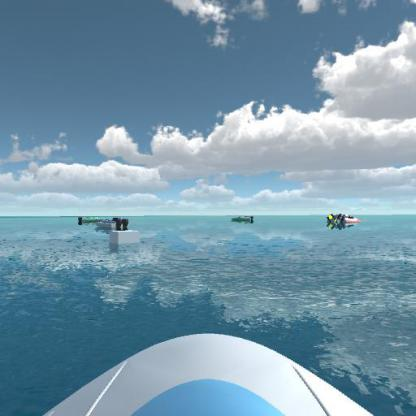usv0: (230, 211, 256, 226), (76, 212, 101, 226)
usv1: (95, 216, 131, 234)
usv2: (326, 211, 340, 229)
usv3: (336, 212, 365, 228)
